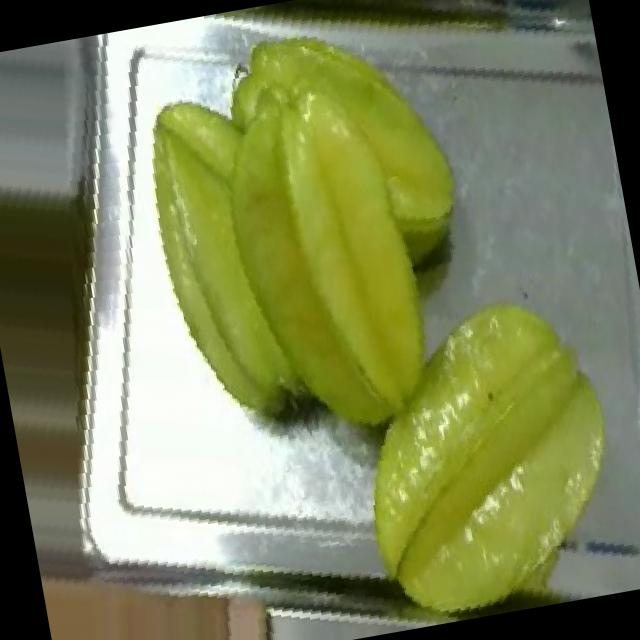fruit: (79, 0, 520, 428), (292, 248, 640, 639), (32, 490, 310, 640)
